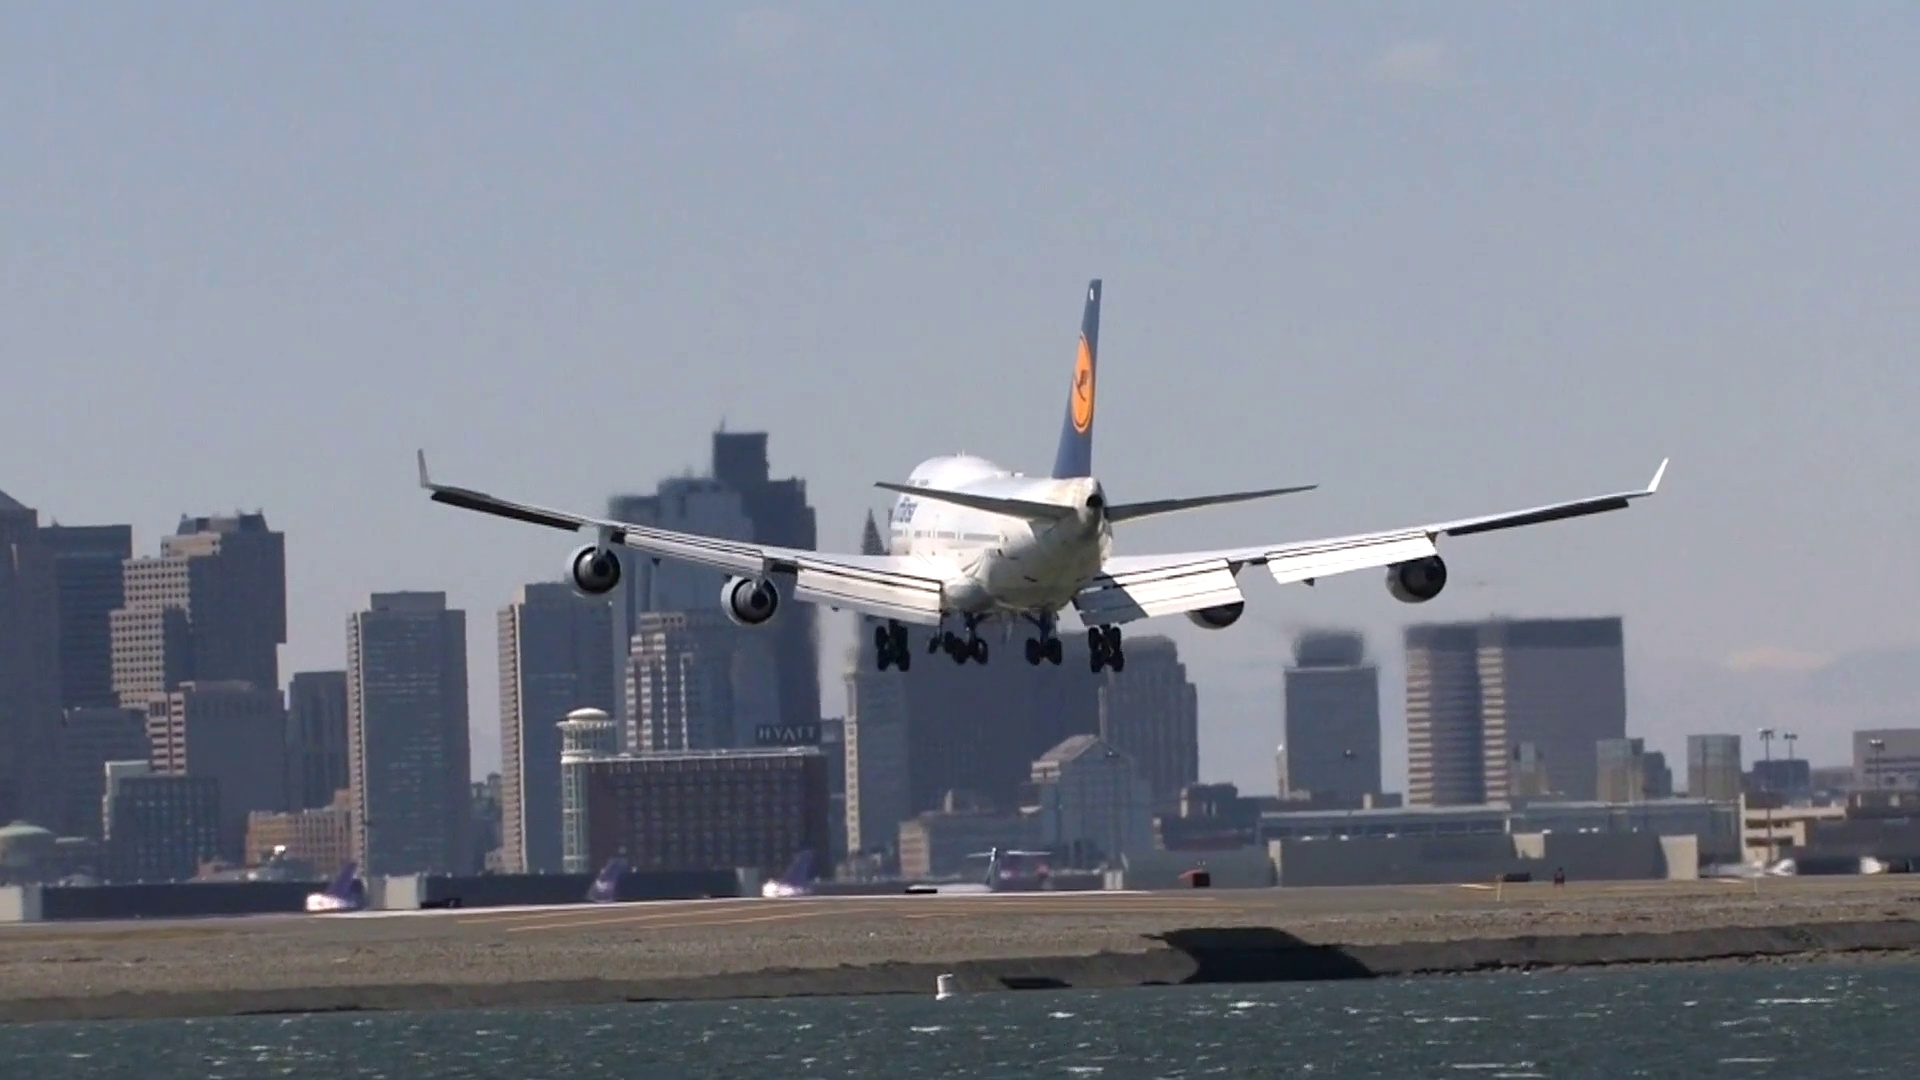plane: (418, 280, 1669, 676)
